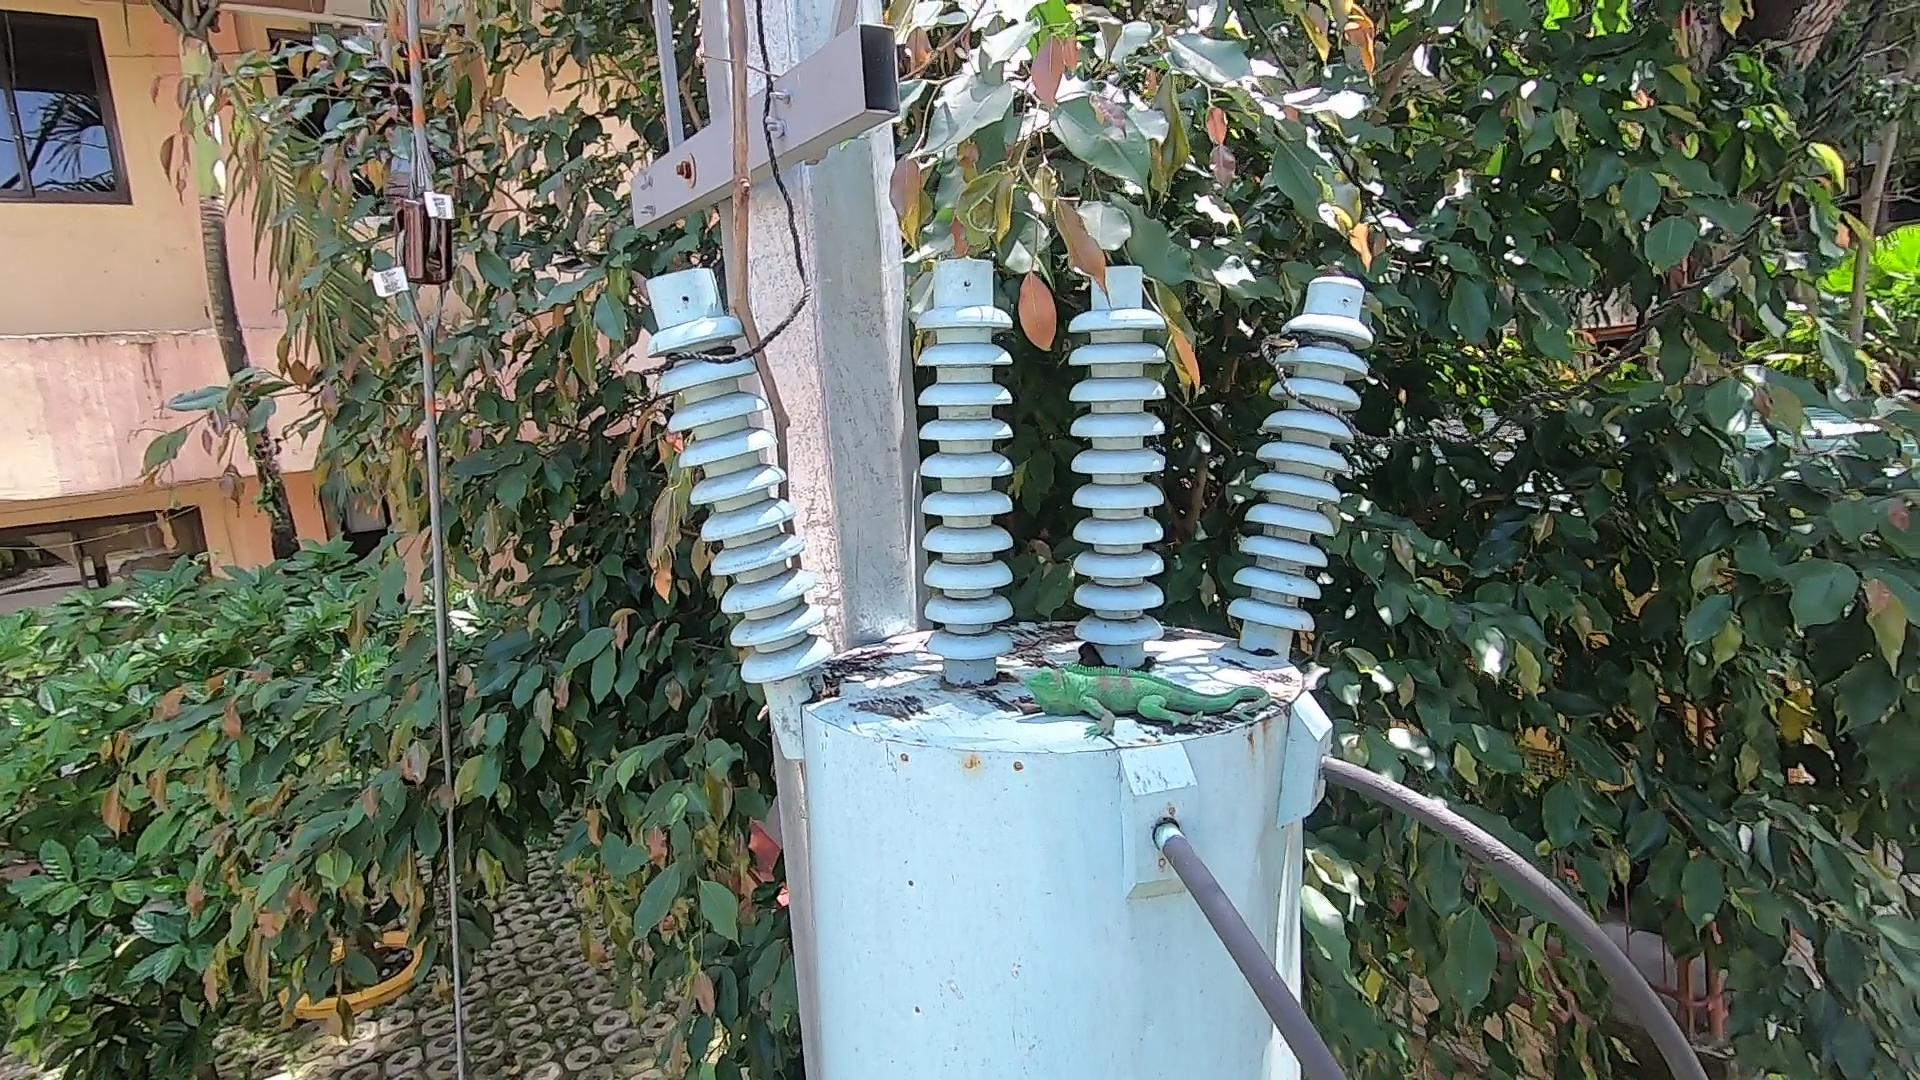branch with leaves: (960, 157, 1276, 404)
leaf: (814, 671, 858, 709), (1073, 637, 1116, 676)
tree branch: (680, 3, 835, 678)
